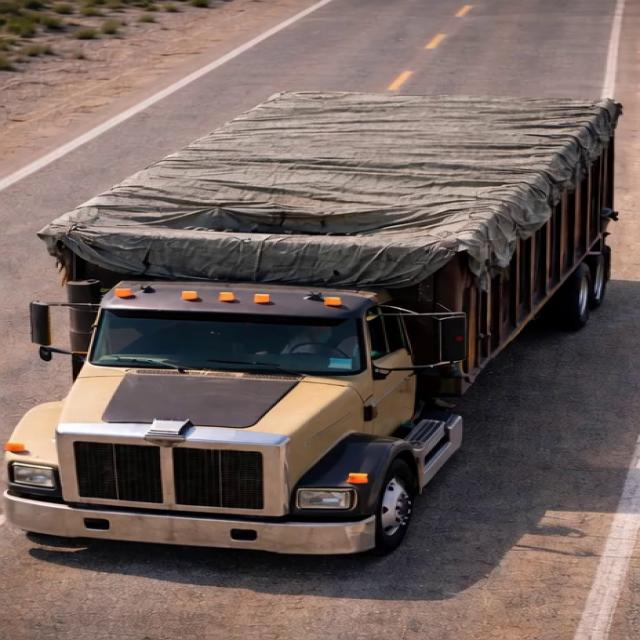Box: (44, 64, 638, 260)
Truck: (0, 39, 640, 569)
